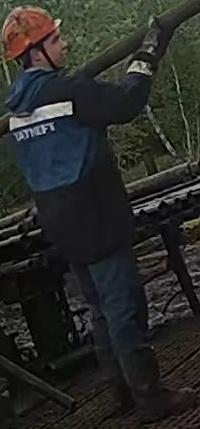gloves: (132, 13, 176, 67)
helmet: (0, 5, 62, 61)
vest: (1, 67, 126, 257)
